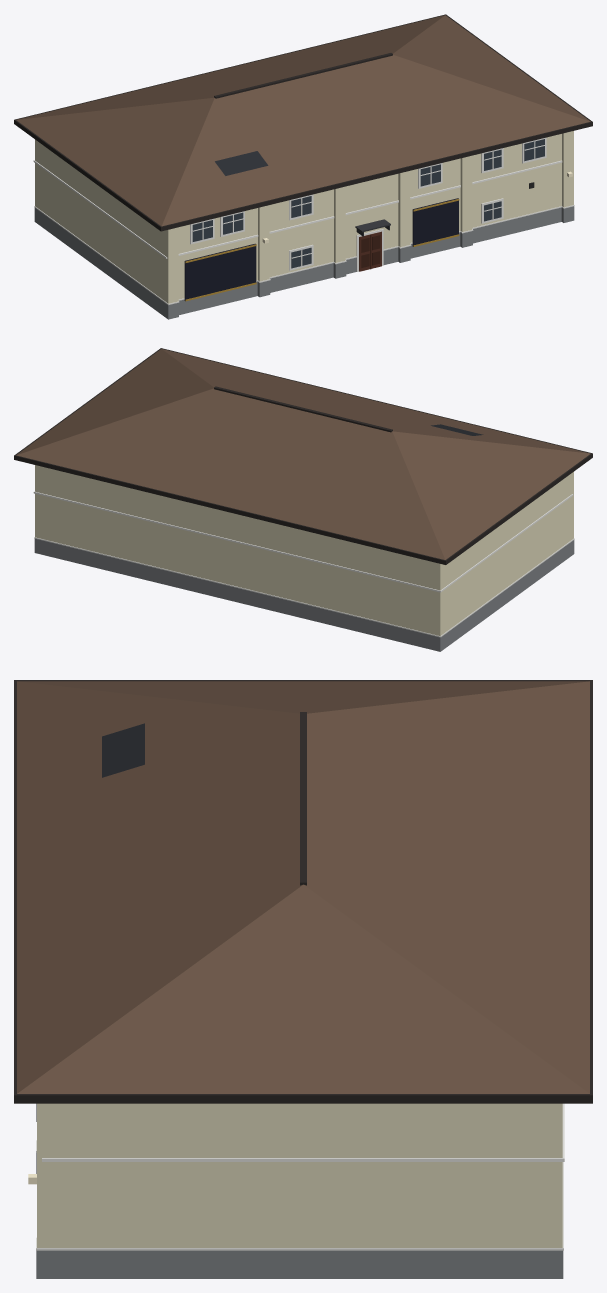
Rendered from above-the-hills.glb.
3 renders of one model, top to bottom at view 1: azimuth 30°, elevation 25°; view 2: azimuth 150°, elevation 25°; view 3: azimuth 270°, elevation 25°, orthographic. The views are drawn at different scales.
Visible parts, largest first — view 1: Building4_LowPoly; view 2: Building4_LowPoly; view 3: Building4_LowPoly.
Part boxes in pixels (x1=…): Building4_LowPoly: x1=14, y1=14, x2=592, y2=319; Building4_LowPoly: x1=14, y1=348, x2=592, y2=651; Building4_LowPoly: x1=14, y1=680, x2=592, y2=1278.
Bounding box in the file's own units: 34.1 × 10.98 × 20.1.
